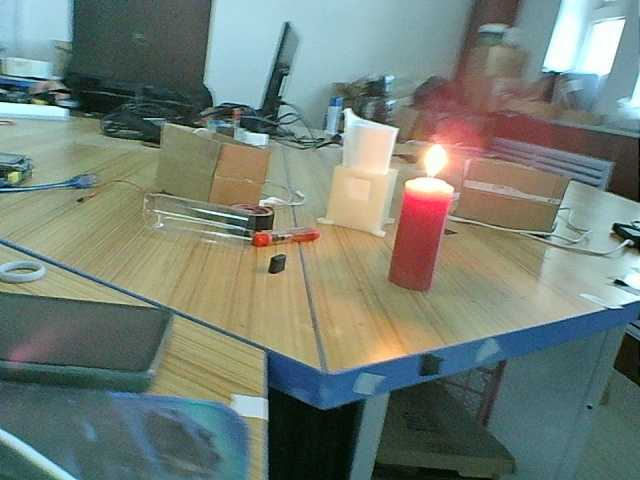candle: (390, 179, 454, 287)
fire: (409, 143, 453, 195)
